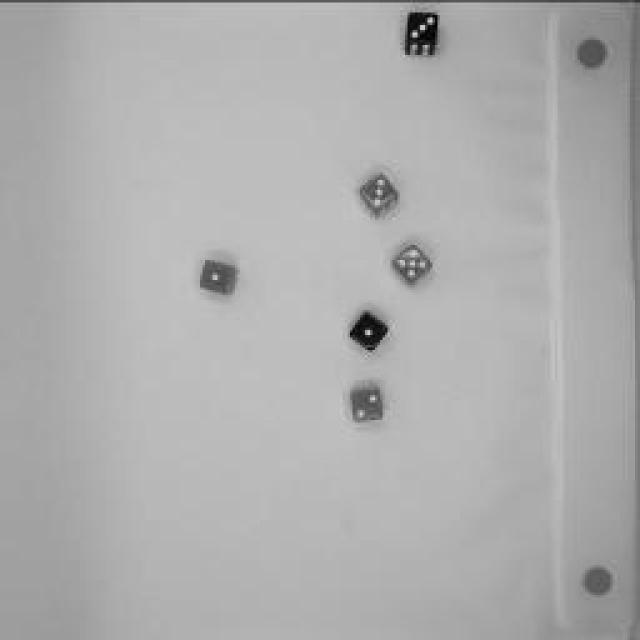dice_1: (345, 300, 393, 355), (195, 255, 245, 297)
dice_2: (344, 382, 386, 430)
dice_3: (354, 168, 406, 224), (396, 9, 444, 59)
dice_5: (385, 236, 440, 294)
